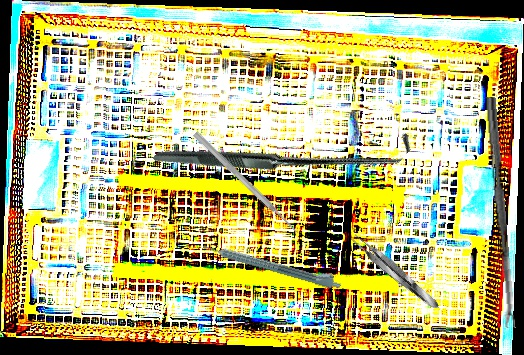Handpiece: (201, 236, 344, 292)
Hook Surgical: (152, 18, 417, 283)
Pusher: (191, 130, 302, 237)
Surgical Spoon: (484, 96, 516, 329)
Tissue Forceps: (348, 231, 443, 314)
